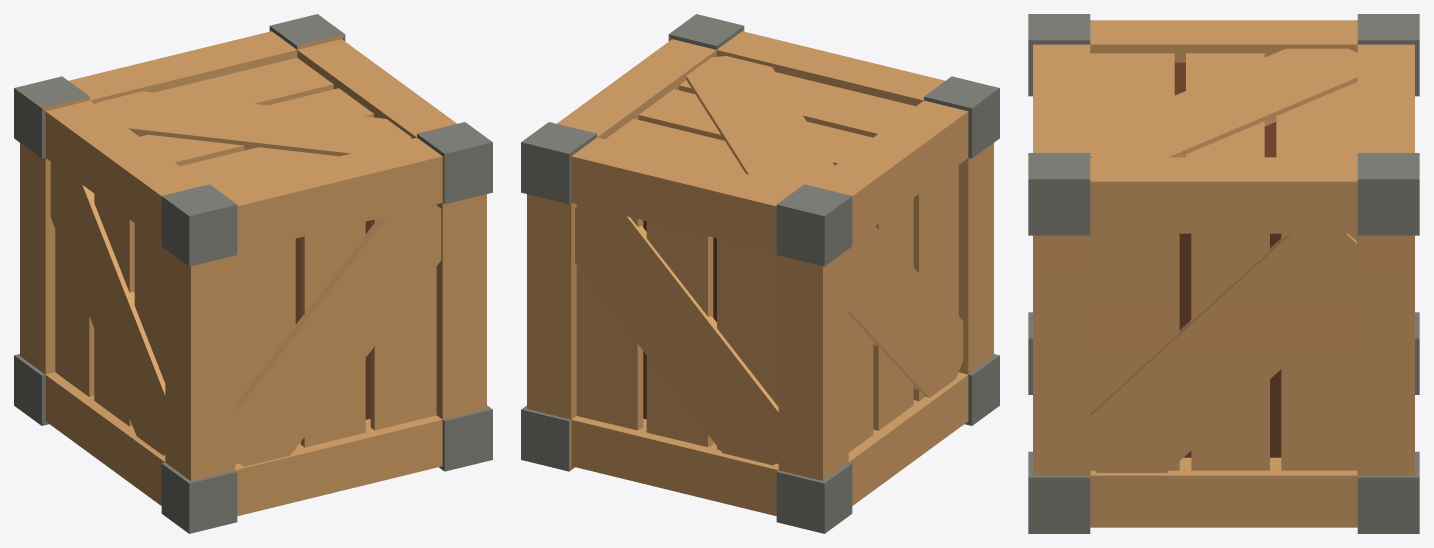
3 views of the same model, side by side, from view 1: azimuth 30°, elevation 25°; view 2: azimuth 150°, elevation 25°; view 3: azimuth 270°, elevation 25° (orthographic). The views are drawn at different scales.
Visible parts, largest first — view 1: Caja; view 2: Caja; view 3: Caja.
Boxes of the visible parts, x1,y1,x2,y2 form: Caja: (14, 14, 492, 533); Caja: (521, 14, 999, 533); Caja: (1028, 14, 1419, 533).
Bounding box in the file's own units: 0.6 × 0.6 × 0.6.
1 material, 1 textured.
